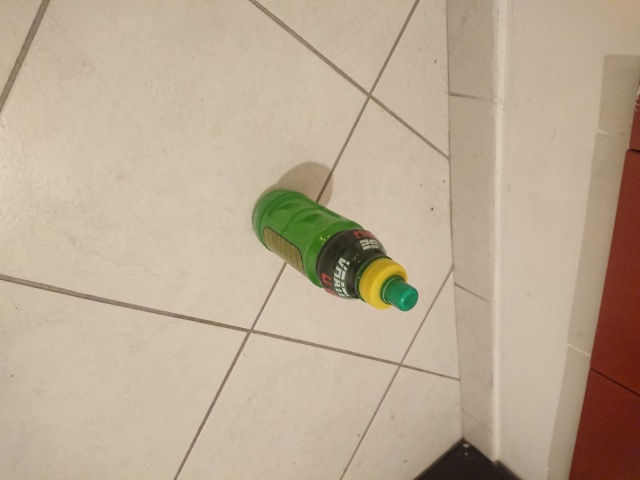Vindi Iso Sport Lemon-Grapefruit 500mL: (249, 187, 421, 314)
